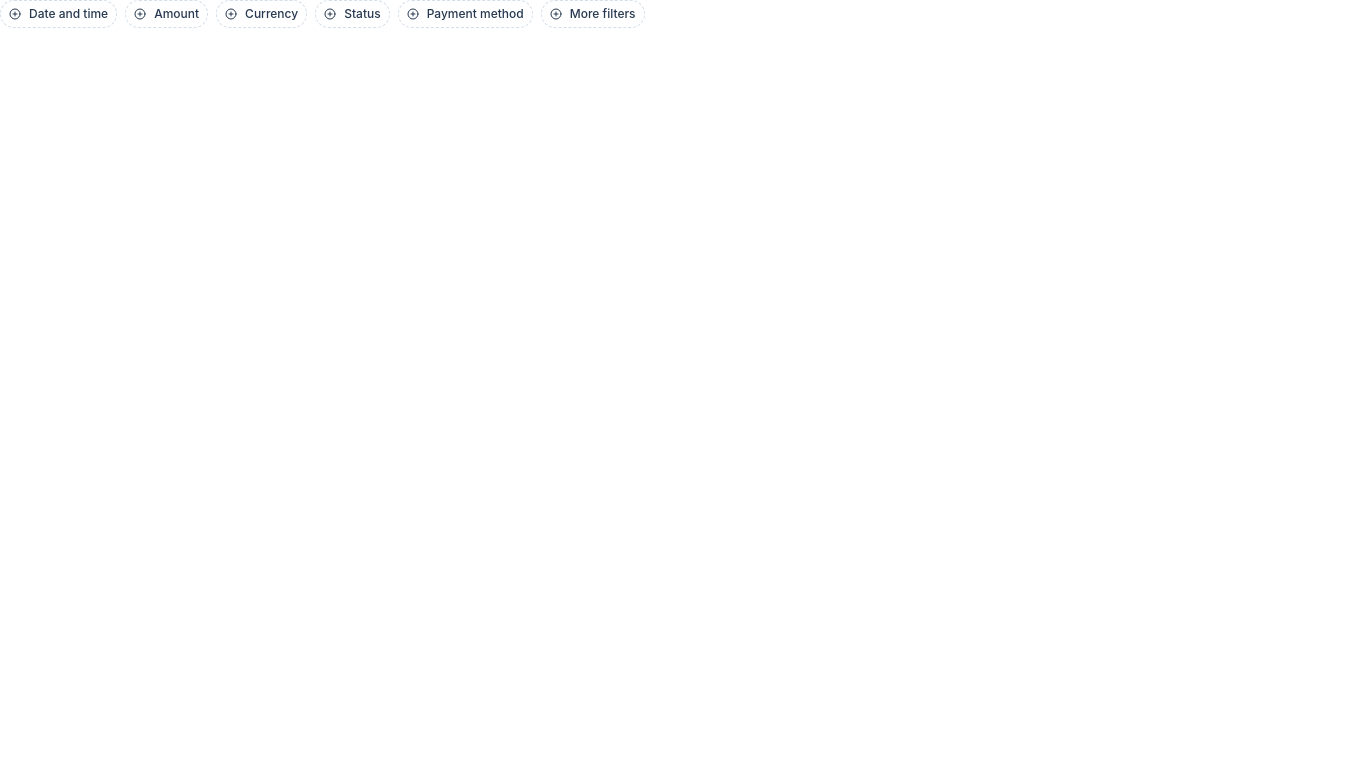
it: FilterBar › closing without Apply discards the draft
Click the button "Status" at (352,14), box [315,0,390,28]
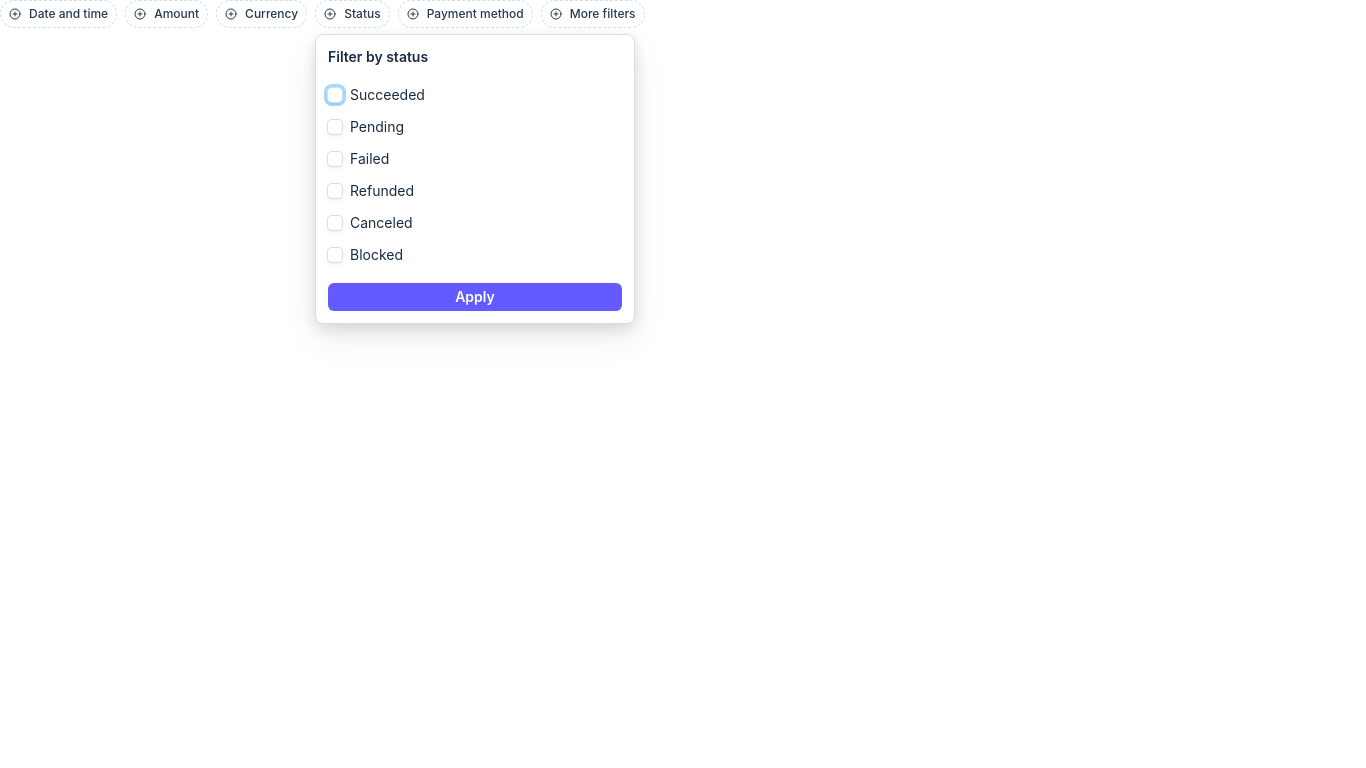
Click the checkbox named "Failed" at (335,159), box [328,152,342,166]
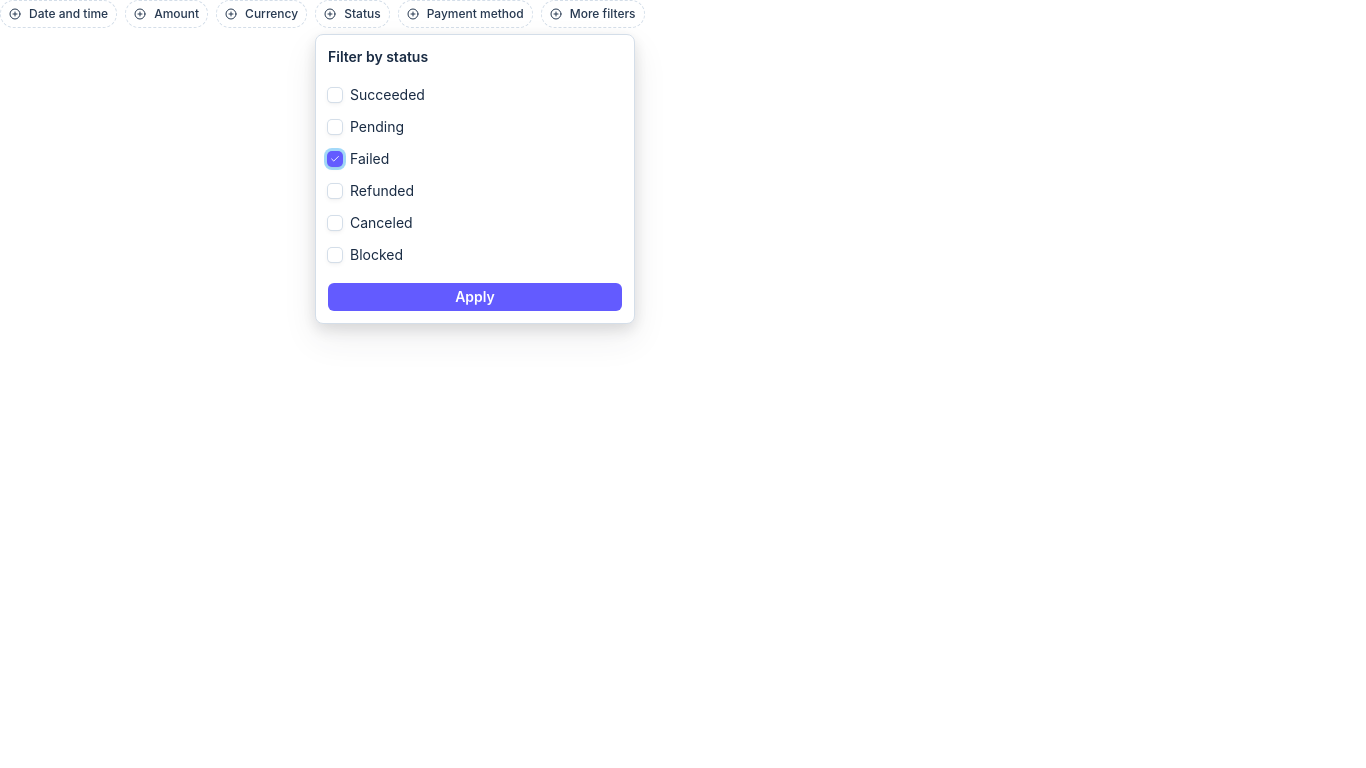
Press Escape
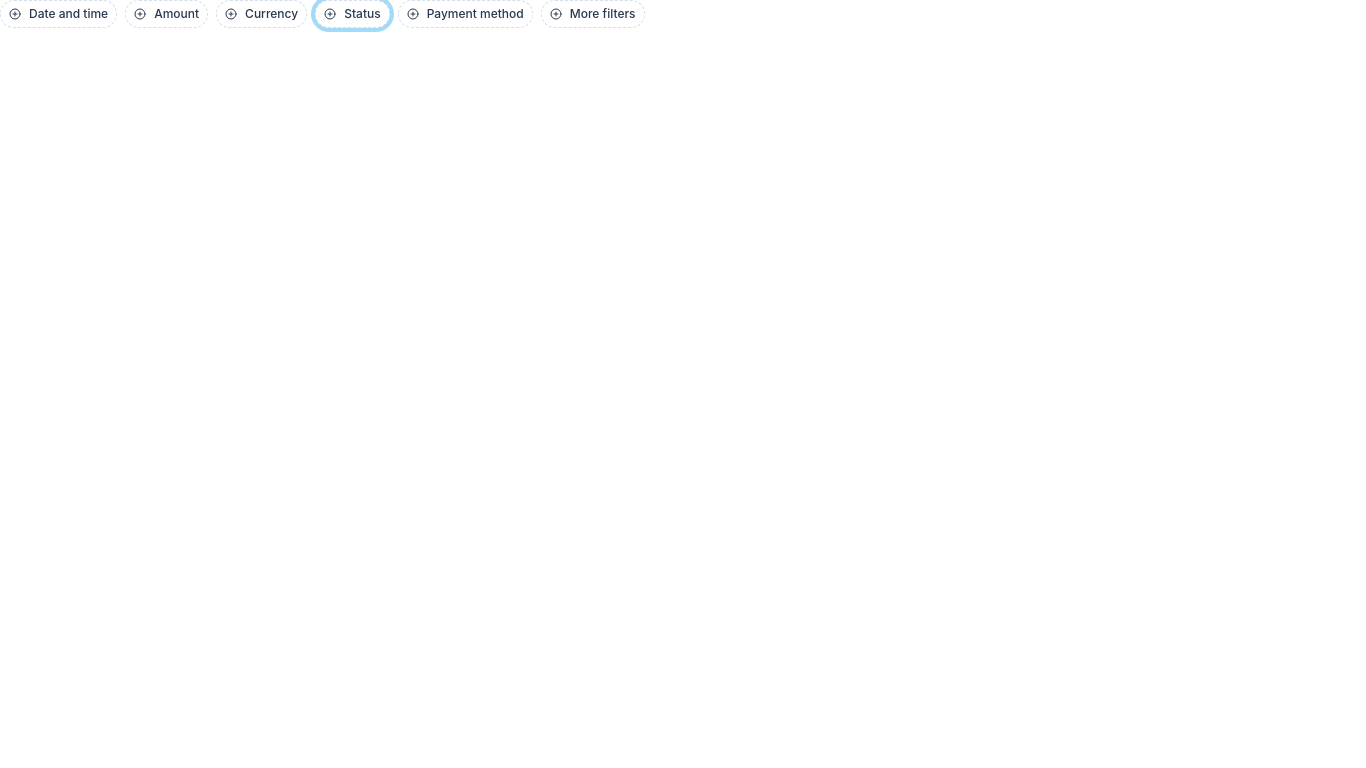
Click the button "Status" at (352,14), box [315,0,390,28]
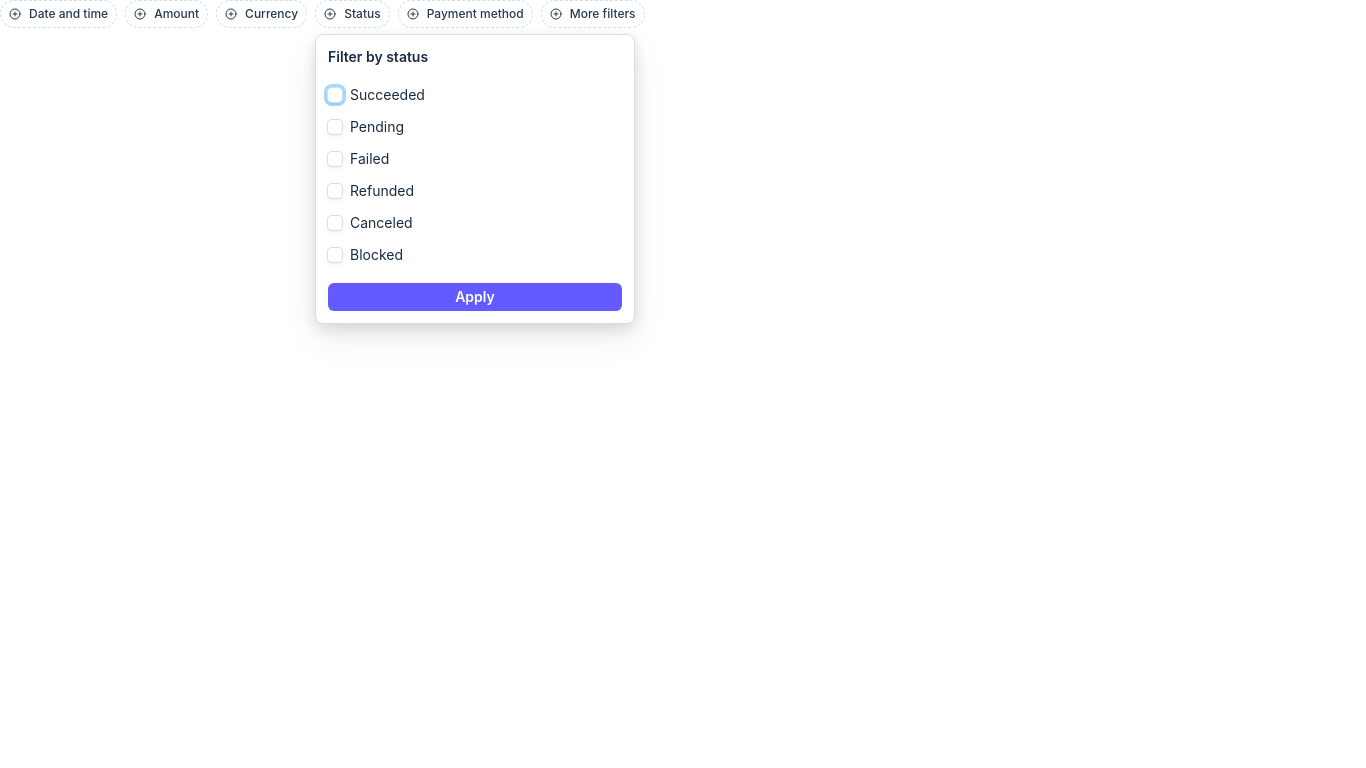
Check: the checkbox named "Failed" is not checked, box [328,152,342,166]
